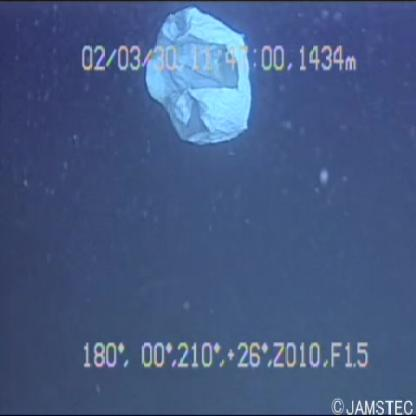Rác: (140, 2, 272, 149)
